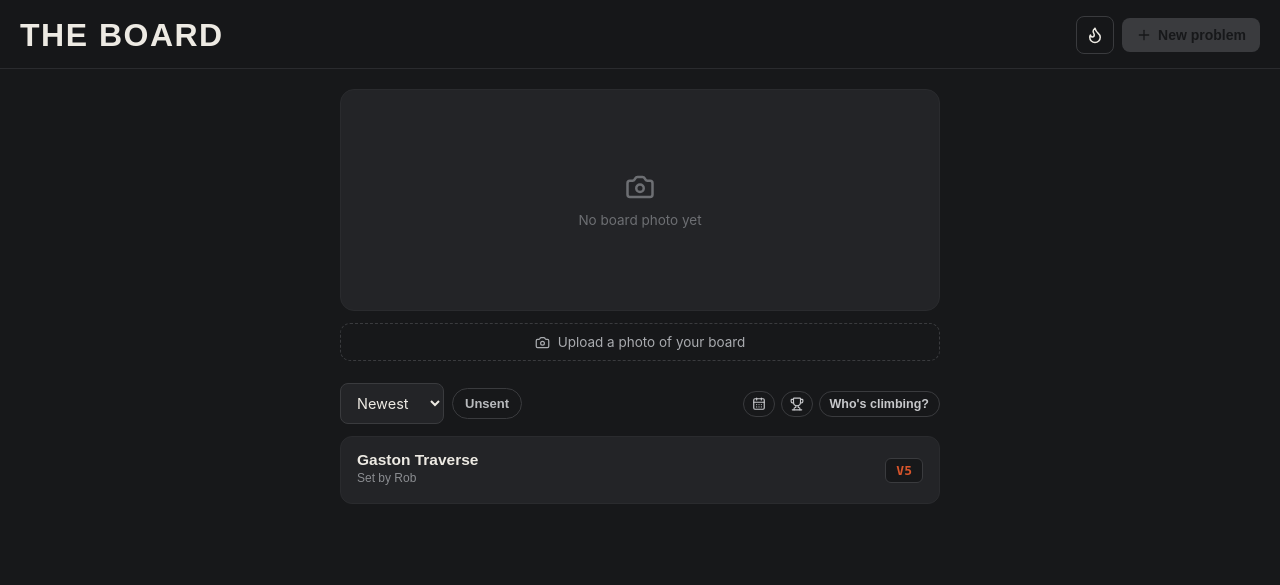
Scenario: App (read paths) › opens a problem detail view with its holds overlaid
The width and height of the screenshot is (1280, 585).
Click the text "Gaston Traverse": (418, 460) [357,451,478,469]
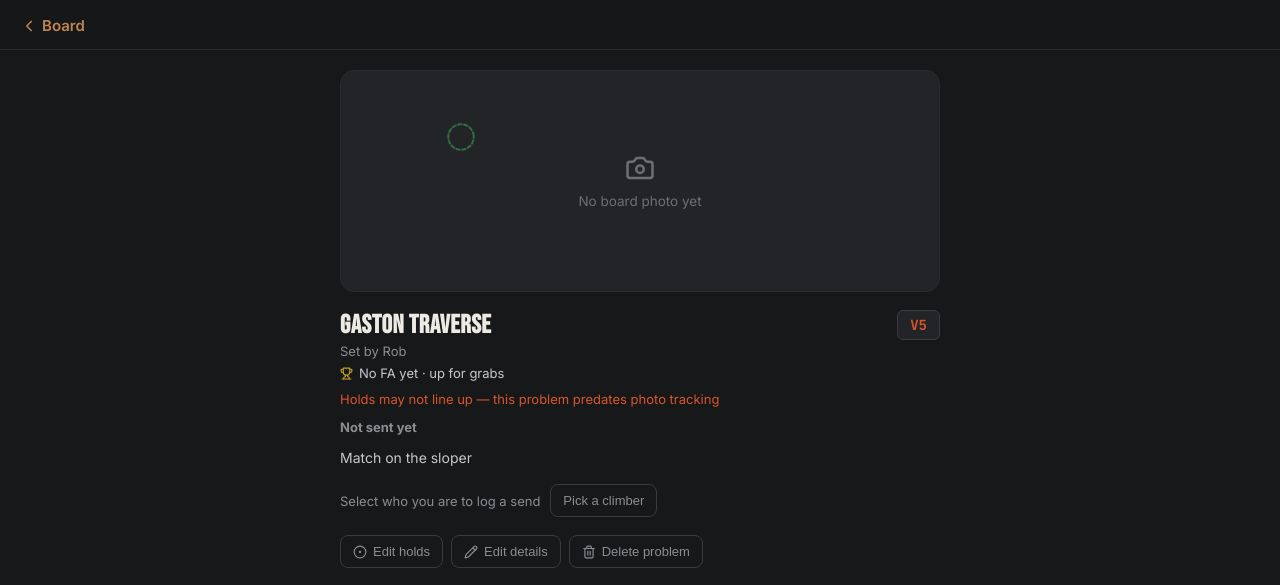
Result: the text "Match on the sloper" is shown at [340,449,472,466]
